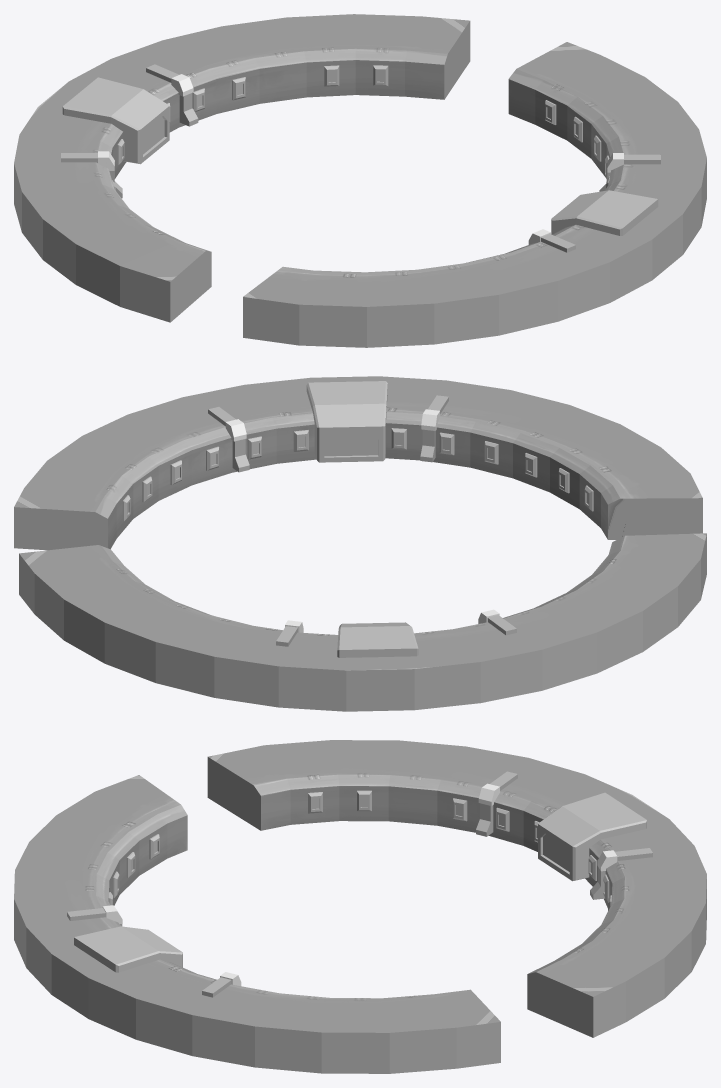
Rendered from Arena_1001_obj_05.fbx.
3 views of the same model, one above another, from view 1: azimuth 30°, elevation 25°; view 2: azimuth 150°, elevation 25°; view 3: azimuth 270°, elevation 25° (orthographic).
Parts seen in each view (by area): view 1: Cube.077; view 2: Cube.077; view 3: Cube.077.
Boxes of the visible parts, x1,y1,x2,y2 form: Cube.077: (14, 14, 706, 347); Cube.077: (14, 376, 706, 711); Cube.077: (14, 740, 706, 1073).
Bounding box in the file's own units: 1005 × 79.18 × 1005.
